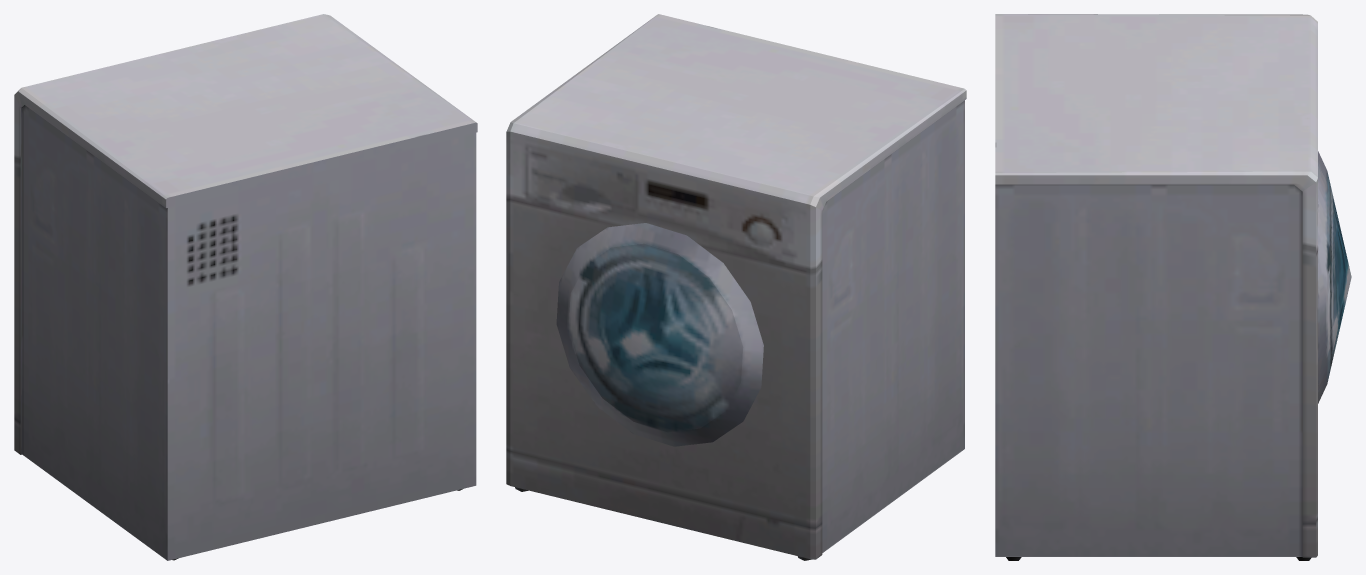
Rendered from furni_0200418.FBX.
3 renders of one model, left to right at view 1: azimuth 30°, elevation 25°; view 2: azimuth 150°, elevation 25°; view 3: azimuth 270°, elevation 25°, orthographic. The views are drawn at different scales.
Parts seen in each view (by area): view 1: furni_0200418; view 2: furni_0200418; view 3: furni_0200418.
Part boxes in pixels (left/top/right/bottom): furni_0200418: left=14, top=14, right=477, bottom=560; furni_0200418: left=506, top=14, right=966, bottom=560; furni_0200418: left=995, top=14, right=1351, bottom=560.
Bounding box in the file's own units: 70.75 × 80 × 66.24.
